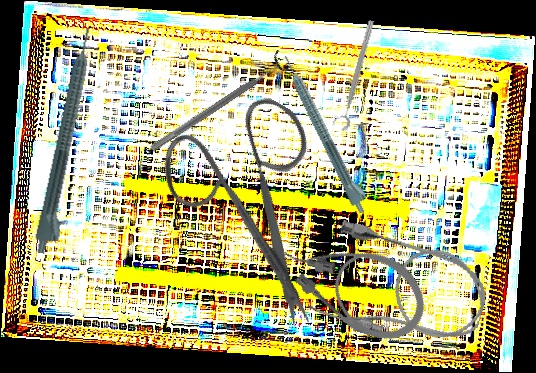Cannula: (304, 216, 497, 364), (269, 208, 442, 357)
Fixation Ring: (143, 48, 293, 161), (330, 17, 378, 133)
Handpiece: (31, 26, 107, 257), (279, 50, 375, 216)
Iris Scissors: (121, 66, 400, 334)
